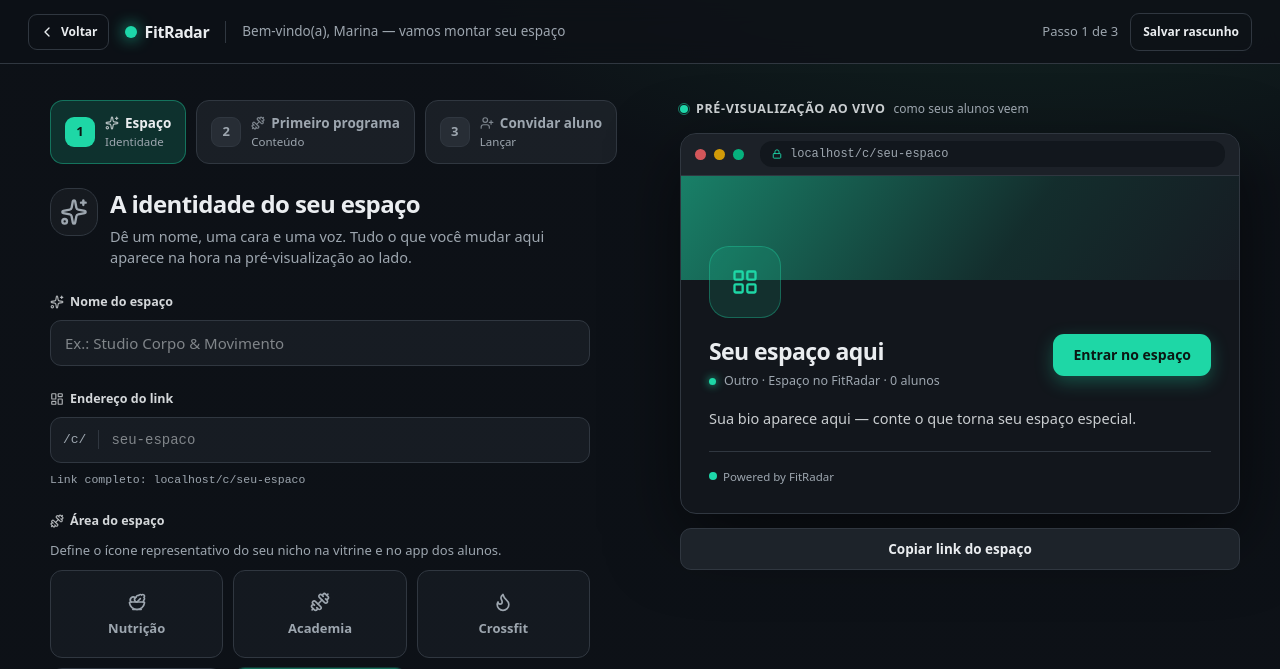
Test: SpaceBuilderPage › updates preview when typing space name
Type "Studio Teste" into the field labelled "Nome do espaço" at (320, 343), box [50, 320, 590, 366]
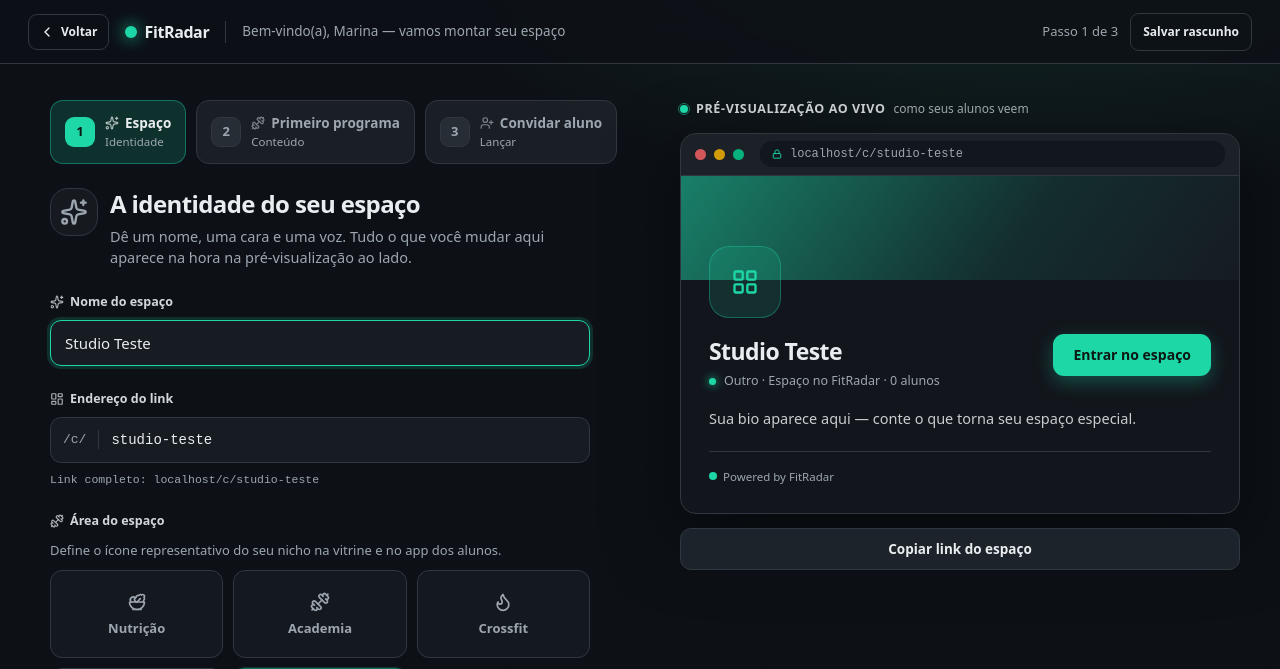
Expected: the heading "Studio Teste" is shown, [709, 335, 842, 367]
